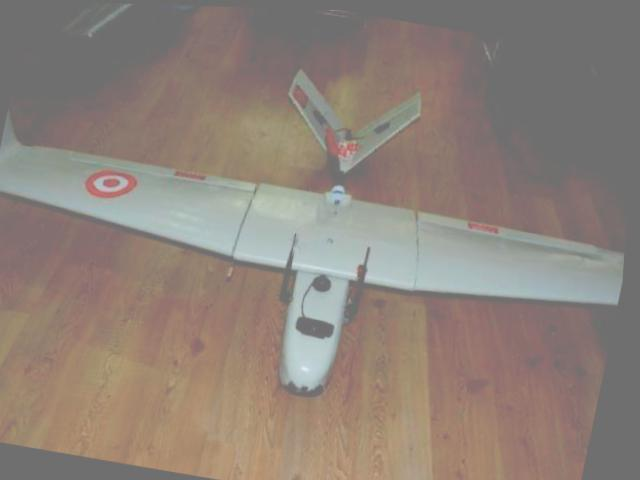iha: (0, 15, 639, 437)
